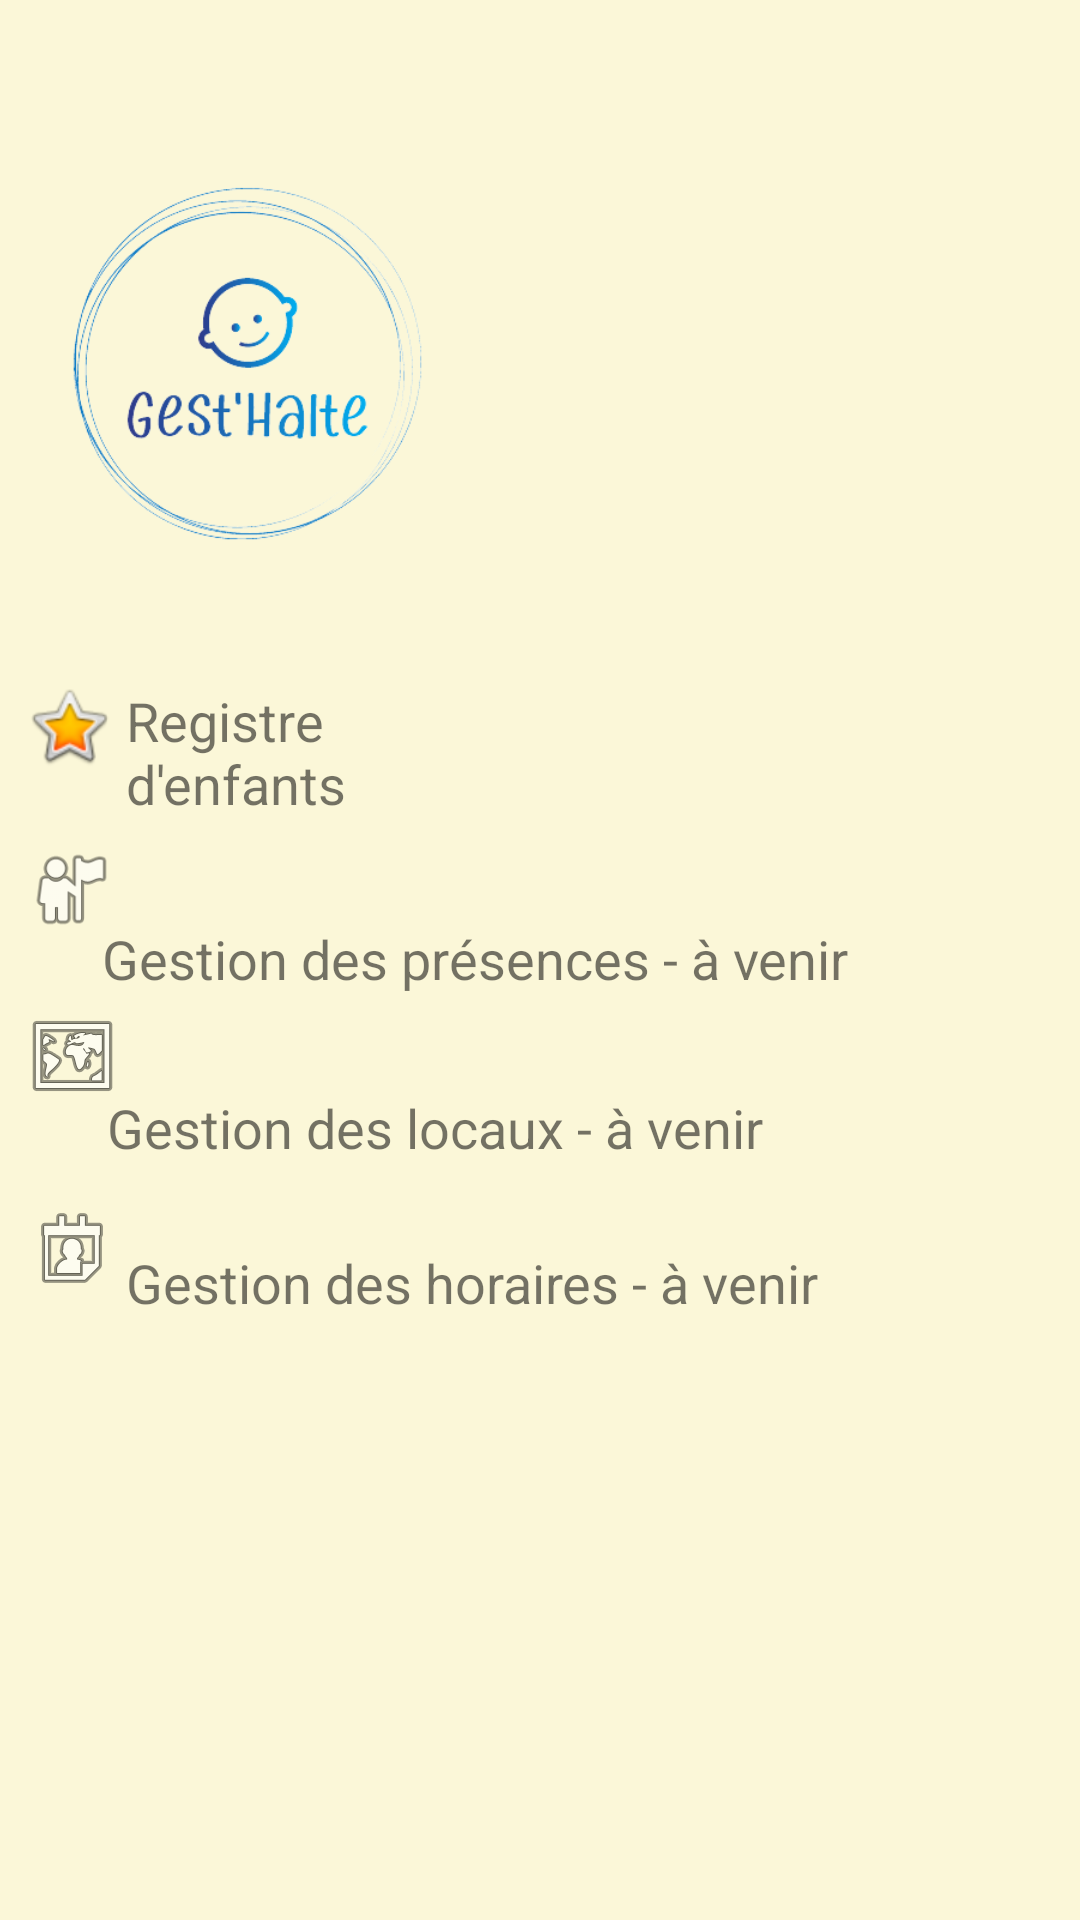

Point at icon controls on the screen. Image size 1080 × 1920, points as point (x, y).
calendar: point (72, 1248)
mapmode: point (72, 1056)
myplaces: point (71, 889)
star on: point (69, 726)
